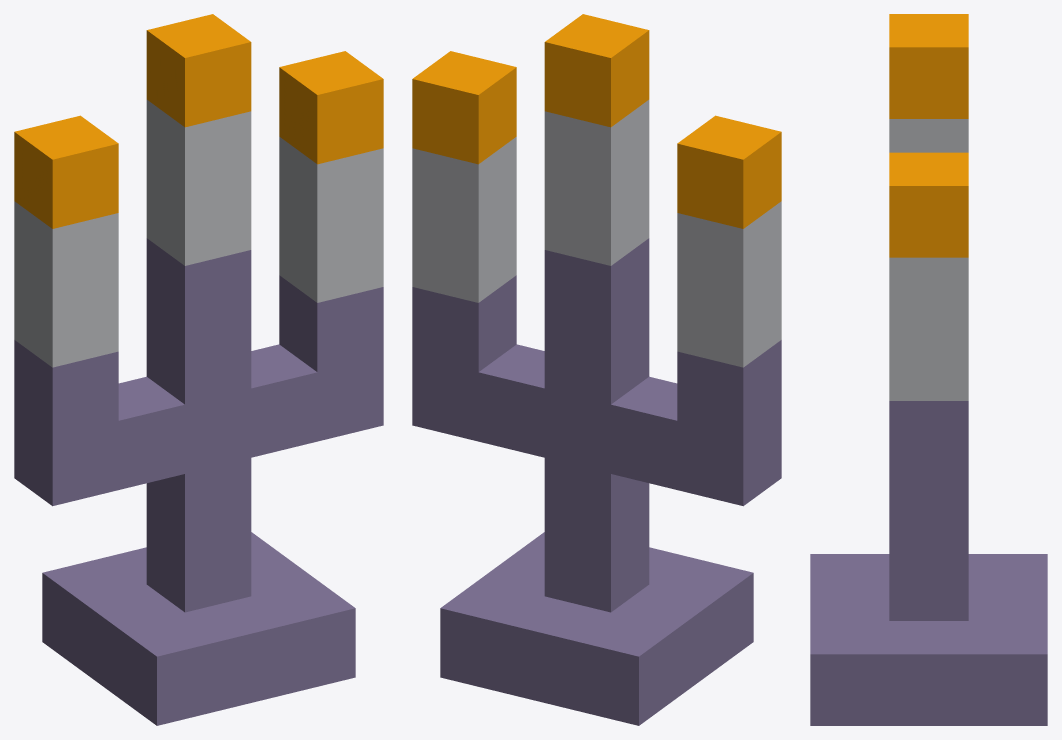
The model's file is small_candelabrum_a.obj.
3 views of the same model, side by side, from view 1: azimuth 30°, elevation 25°; view 2: azimuth 150°, elevation 25°; view 3: azimuth 270°, elevation 25° (orthographic). The views are drawn at different scales.
Size of the model in its own units: 0.5 by 0.9 by 0.3.
1 material, 1 textured.
